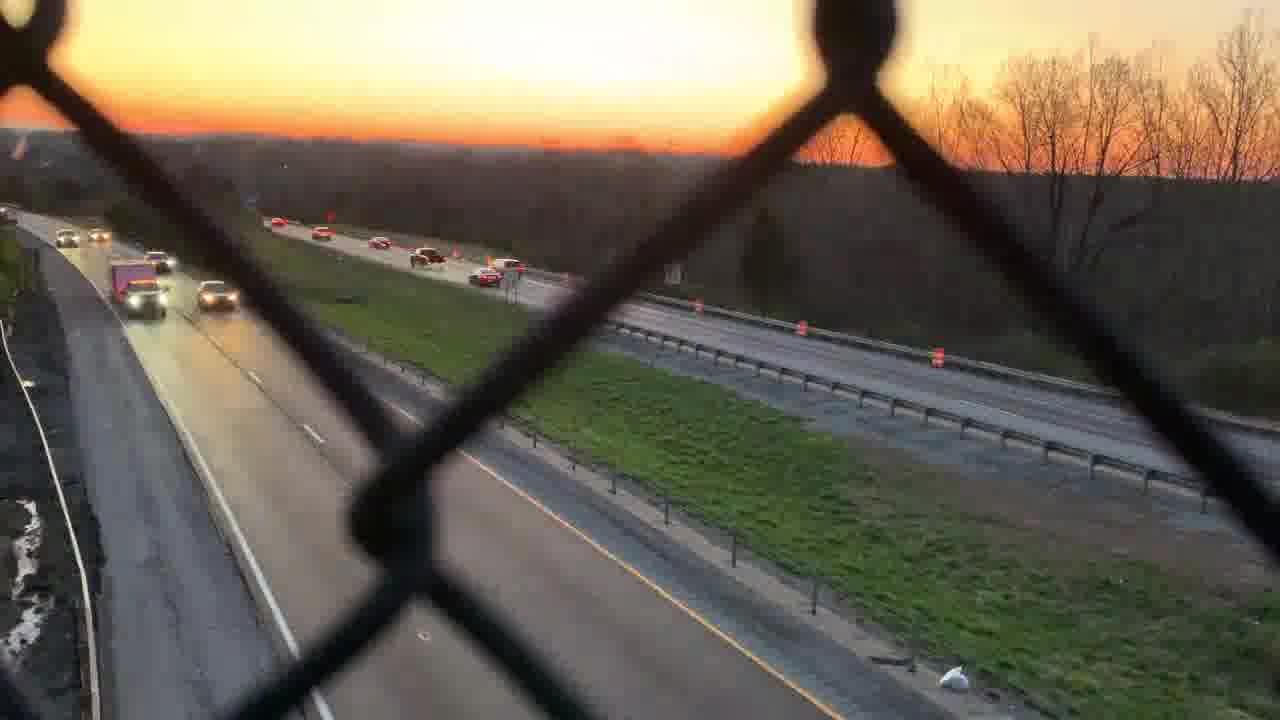lightTruck: (106, 259, 169, 319), (407, 243, 449, 272)
smallCar: (470, 270, 502, 290)
